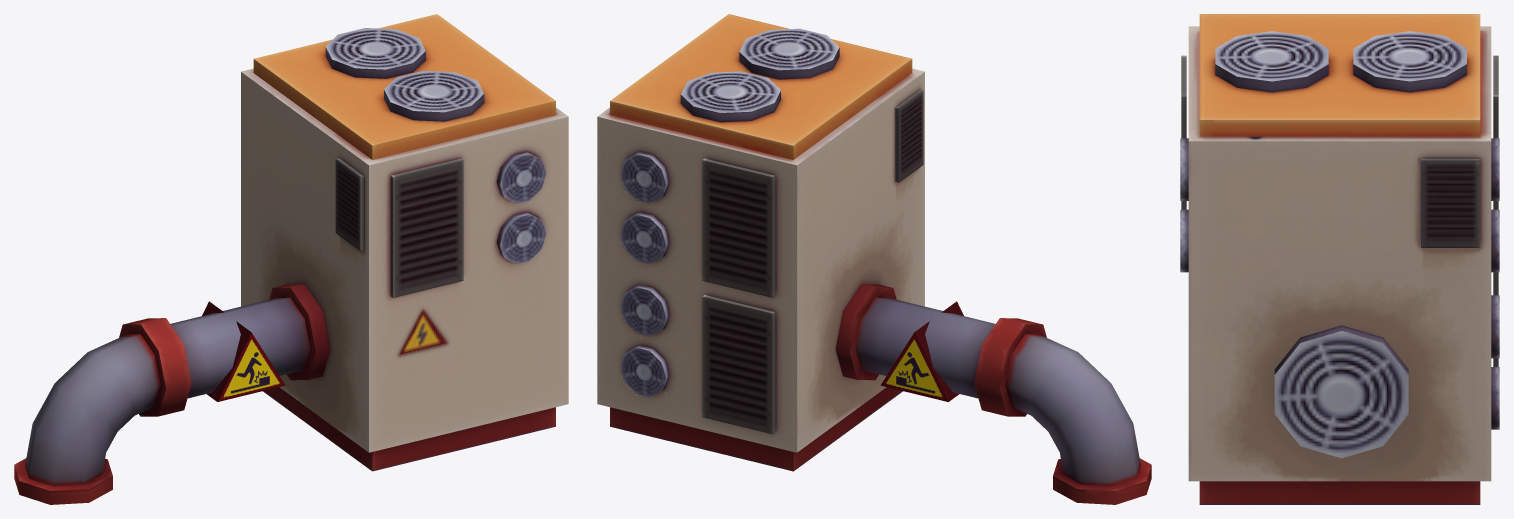
The model's file is Obstacle_AC2.FBX.
3 renders of one model, left to right at view 1: azimuth 30°, elevation 25°; view 2: azimuth 150°, elevation 25°; view 3: azimuth 270°, elevation 25°, orthographic. The views are drawn at different scales.
Parts seen in each view (by area): view 1: Obstacle_AC2; view 2: Obstacle_AC2; view 3: Obstacle_AC2.
Boxes of the visible parts, bbox=[...] form: Obstacle_AC2: bbox=[14, 14, 568, 504]; Obstacle_AC2: bbox=[597, 14, 1151, 504]; Obstacle_AC2: bbox=[1180, 14, 1499, 504].
Size of the model in its own units: 24.62 by 15.93 by 11.64.
